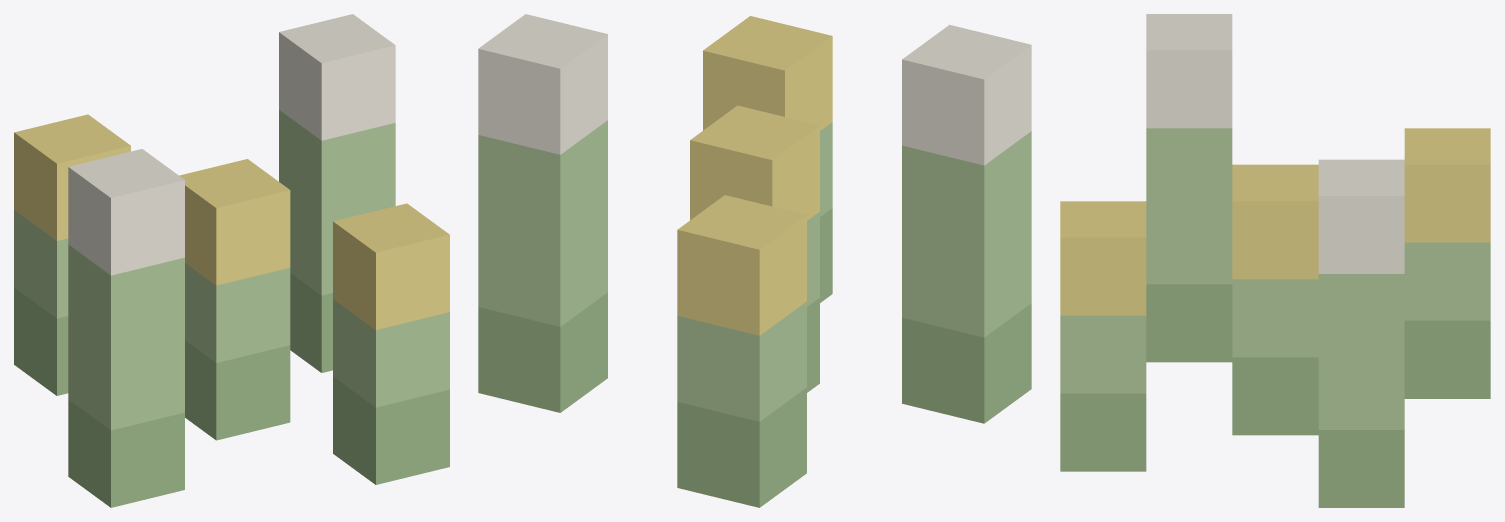
Rendered from decor_flowers_a.glb.
3 views of the same model, side by side, from view 1: azimuth 30°, elevation 25°; view 2: azimuth 150°, elevation 25°; view 3: azimuth 270°, elevation 25° (orthographic). The views are drawn at different scales.
Parts seen in each view (by area): view 1: decor_flowers_a; view 2: decor_flowers_a; view 3: decor_flowers_a.
Boxes of the visible parts, box(x1,y1,x2,y2) form: decor_flowers_a: box(14, 14, 449, 507); decor_flowers_a: box(478, 14, 1031, 507); decor_flowers_a: box(1060, 14, 1490, 507).
Bounding box in the file's own units: 0.3125 × 0.25 × 0.3125.
